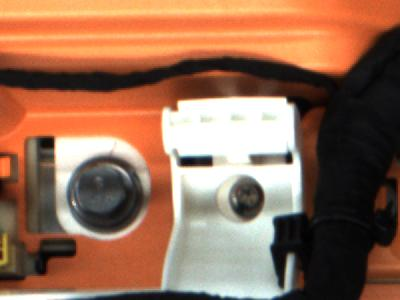nut_b: (62, 153, 146, 241)
